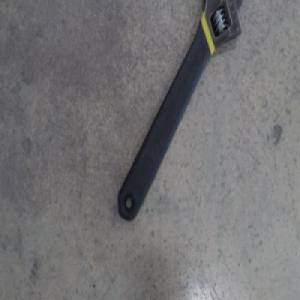AdjustableWrench: (117, 0, 244, 221)
